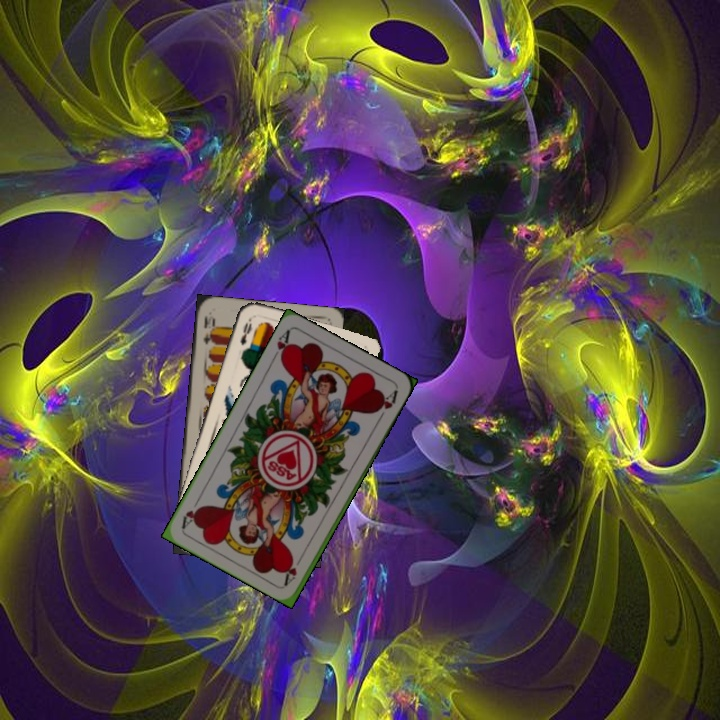E10: (199, 311, 218, 347)
EO: (236, 314, 254, 348)
HA: (267, 326, 294, 365), (280, 549, 307, 587)
